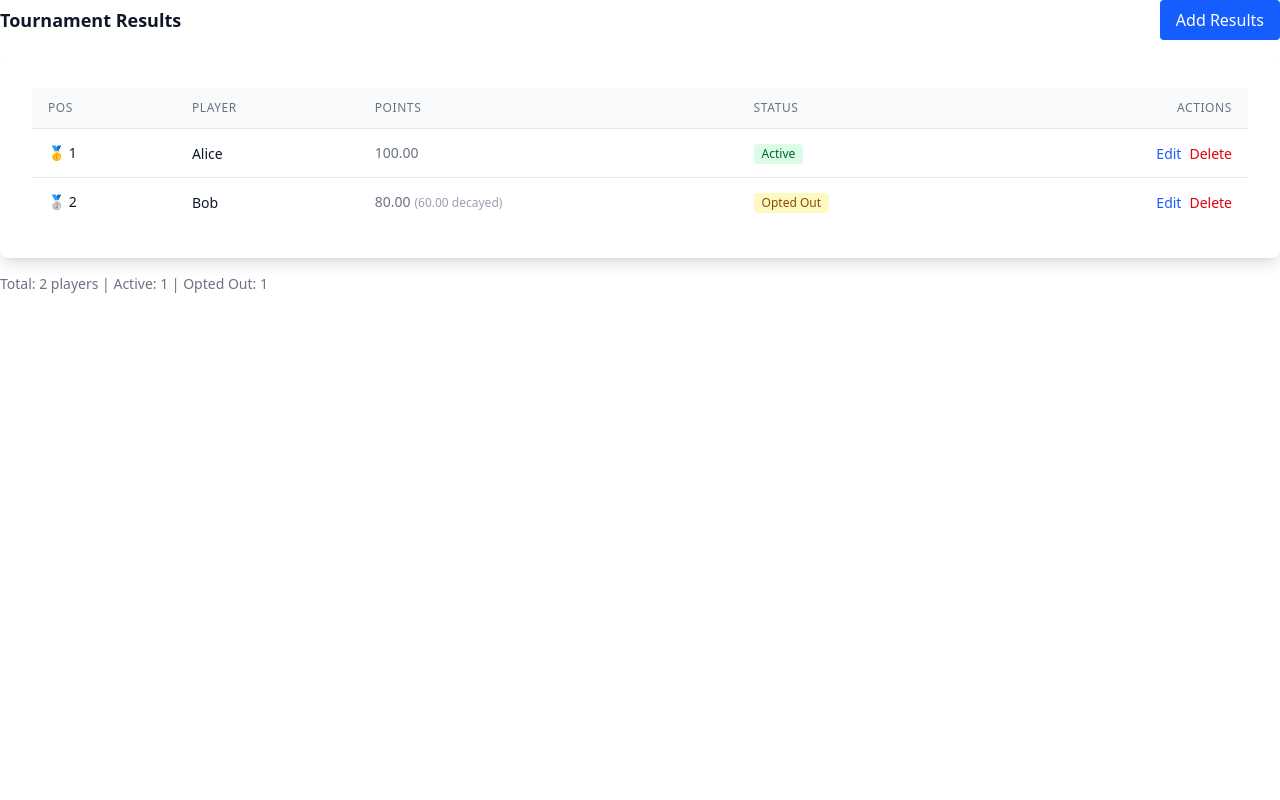
Test: TournamentResultsManager › opens delete confirmation when Delete clicked
The width and height of the screenshot is (1280, 800).
Check: the link "Alice" is shown, box [192, 144, 223, 163]
Click the button "Delete" in the row of "Alice": (1211, 154) [1189, 144, 1232, 164]
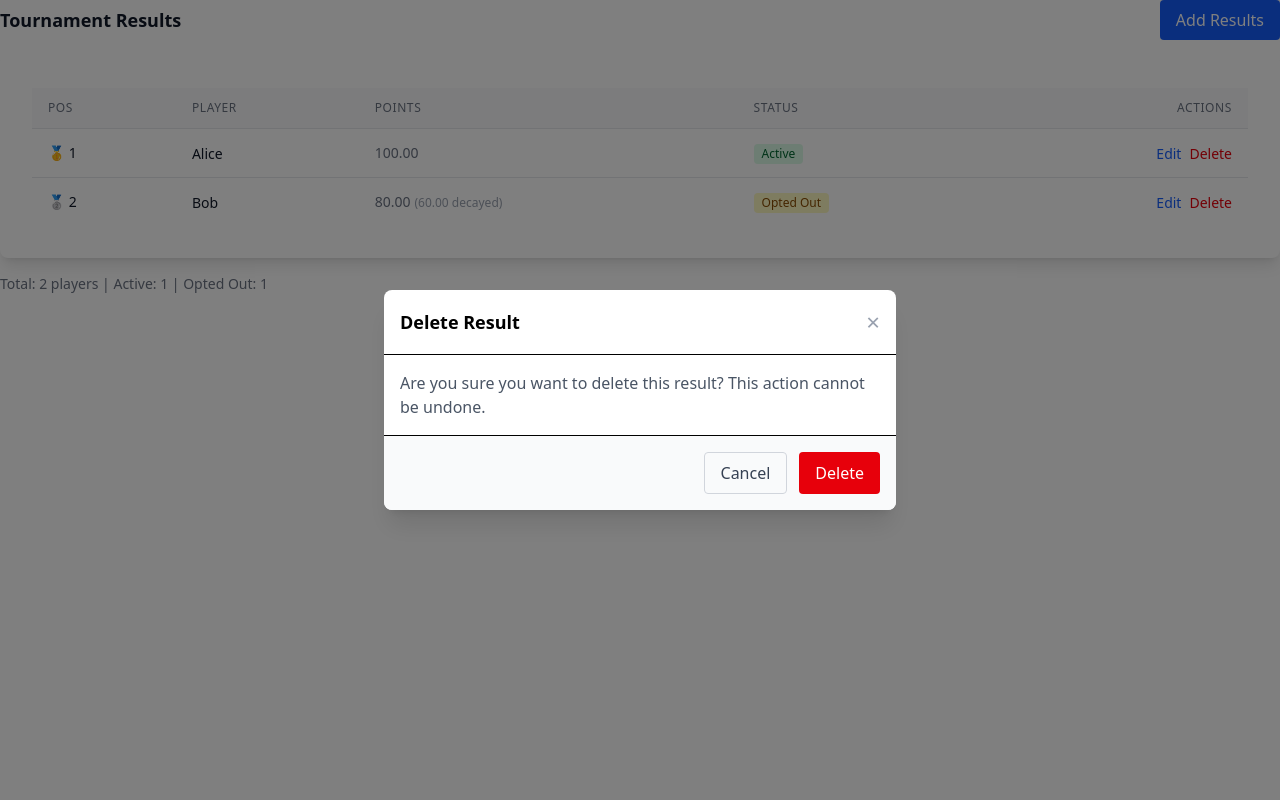
Check: the heading "Delete Result" is shown, box [400, 308, 520, 336]
Check: the text "Are you sure you want to delete" is shown, box [400, 372, 865, 418]
